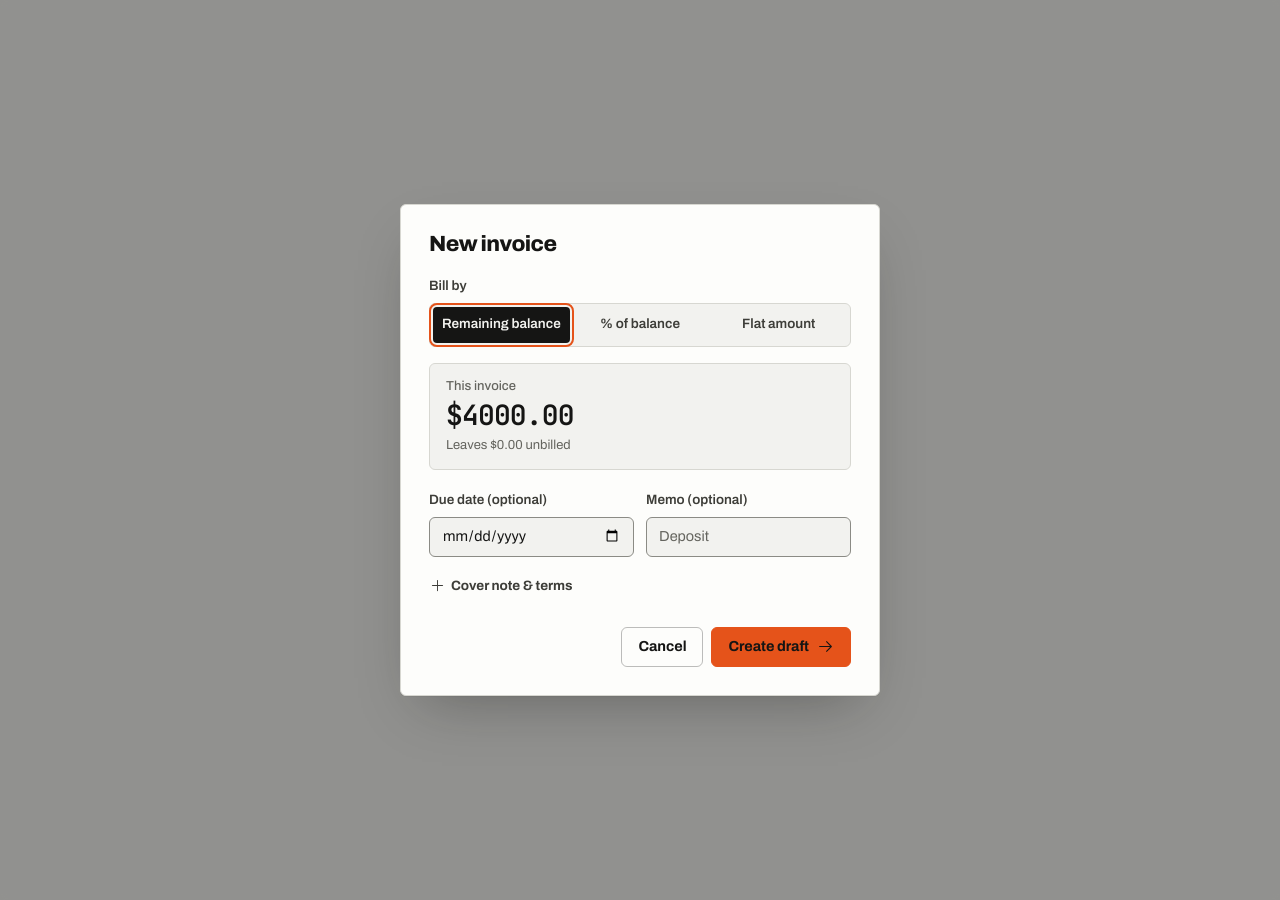
Test: CreateInvoiceDialog › switches to % of balance and previews the org default deposit
The image size is (1280, 900).
Click the button "% of balance": click(640, 324) [572, 306, 708, 342]
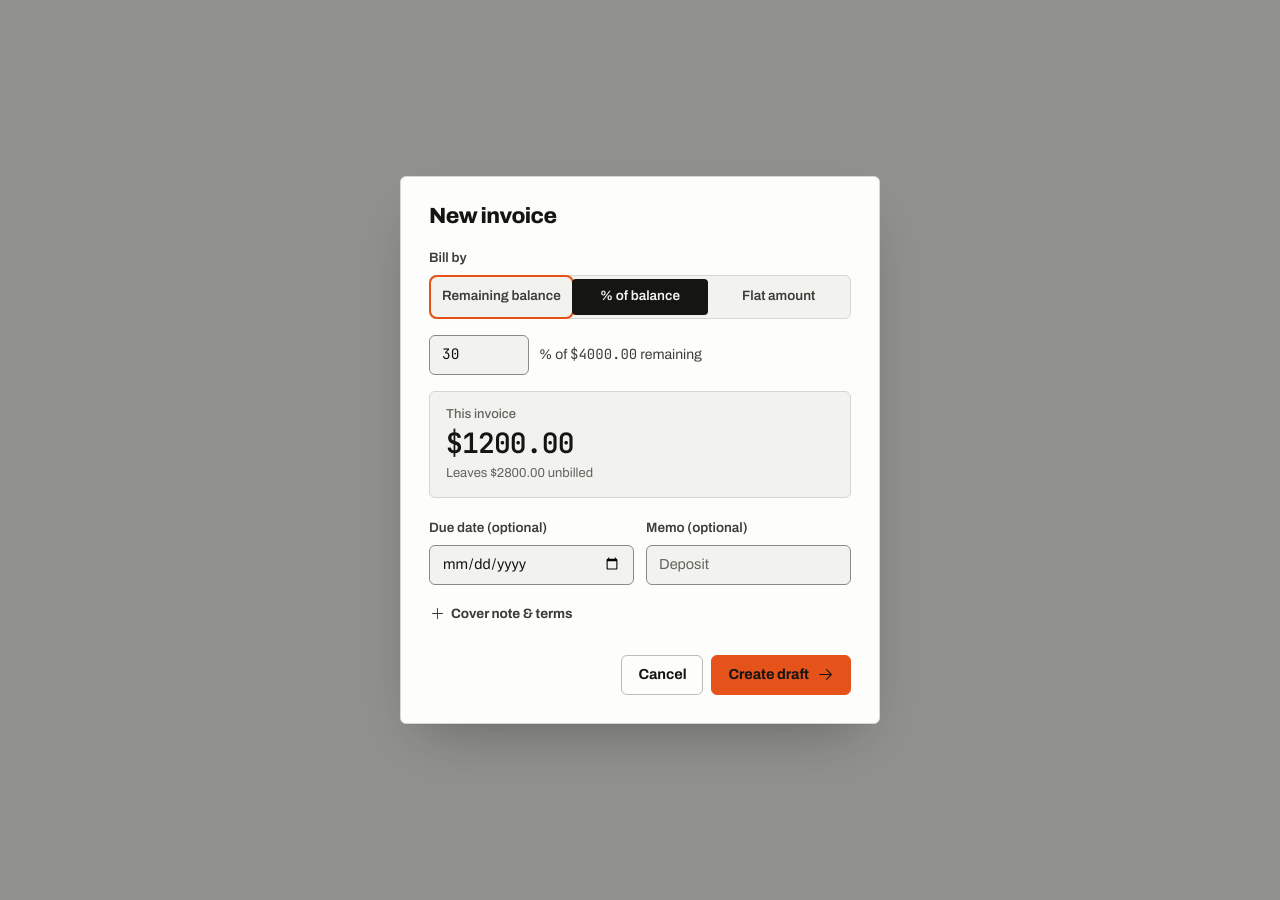
Check: the text "$1200.00" is shown, box [446, 424, 574, 461]
